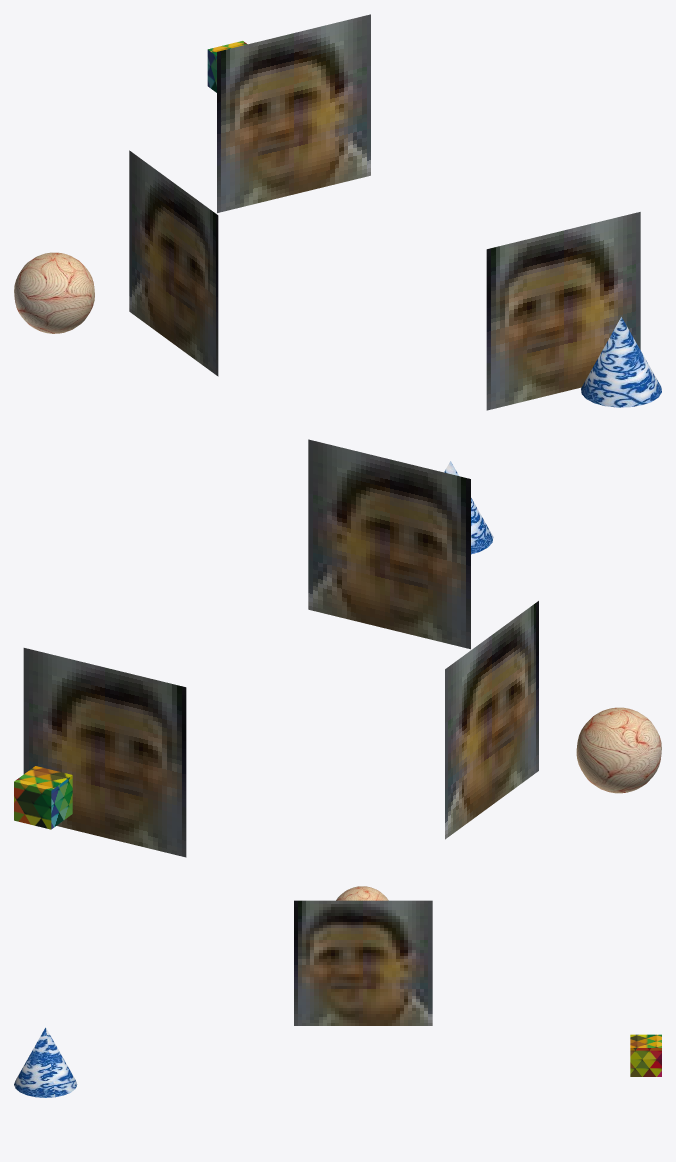
Rendered from BSPTest.obj.
The picture shows the model from 3 angles, top to bottom: view 1: azimuth 30°, elevation 25°; view 2: azimuth 150°, elevation 25°; view 3: azimuth 270°, elevation 25°; orthographic projection. The views are drawn at different scales.
Visible parts, largest first — view 1: wall polySurface1, wall2 polySurface1, wall3 polySurface1, pSphere1 polySurface1, pCone1 polySurface1; view 2: wall2 polySurface1, wall polySurface1, wall3 polySurface1, pSphere1 polySurface1, pCube1 polySurface1, pCone1 polySurface1; view 3: wall3 polySurface1, pCone1 polySurface1, pCube1 polySurface1, pSphere1 polySurface1.
Part boxes in pixels (x1,y1,x2,y2): wall polySurface1: [217, 14, 370, 212]; wall2 polySurface1: [486, 212, 640, 410]; wall3 polySurface1: [129, 150, 218, 376]; pSphere1 polySurface1: [14, 252, 94, 333]; pCone1 polySurface1: [581, 317, 661, 407]; wall2 polySurface1: [308, 439, 470, 649]; wall polySurface1: [23, 648, 186, 857]; wall3 polySurface1: [445, 601, 538, 839]; pSphere1 polySurface1: [576, 707, 661, 793]; pCube1 polySurface1: [14, 766, 72, 829]; pCone1 polySurface1: [444, 461, 493, 554]; wall3 polySurface1: [294, 900, 432, 1025]; pCone1 polySurface1: [14, 1027, 77, 1097]; pCube1 polySurface1: [630, 1034, 661, 1076]; pSphere1 polySurface1: [336, 886, 388, 900].
Size of the model in its own units: 13.48 by 4.37 by 20.44.
Materials: 4 (4 with a texture image).
